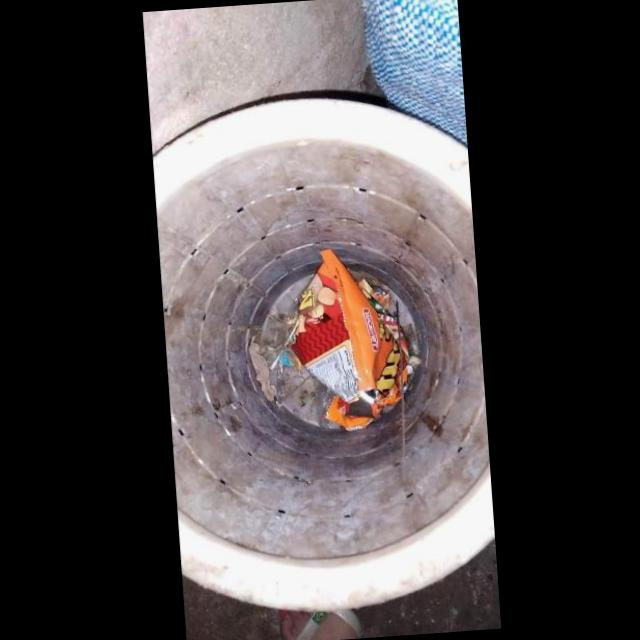bao_bi_thuc_pham: (291, 249, 414, 429)
